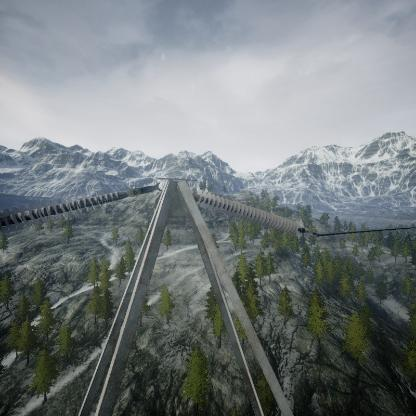insulator: (190, 184, 301, 233), (1, 185, 136, 224)
